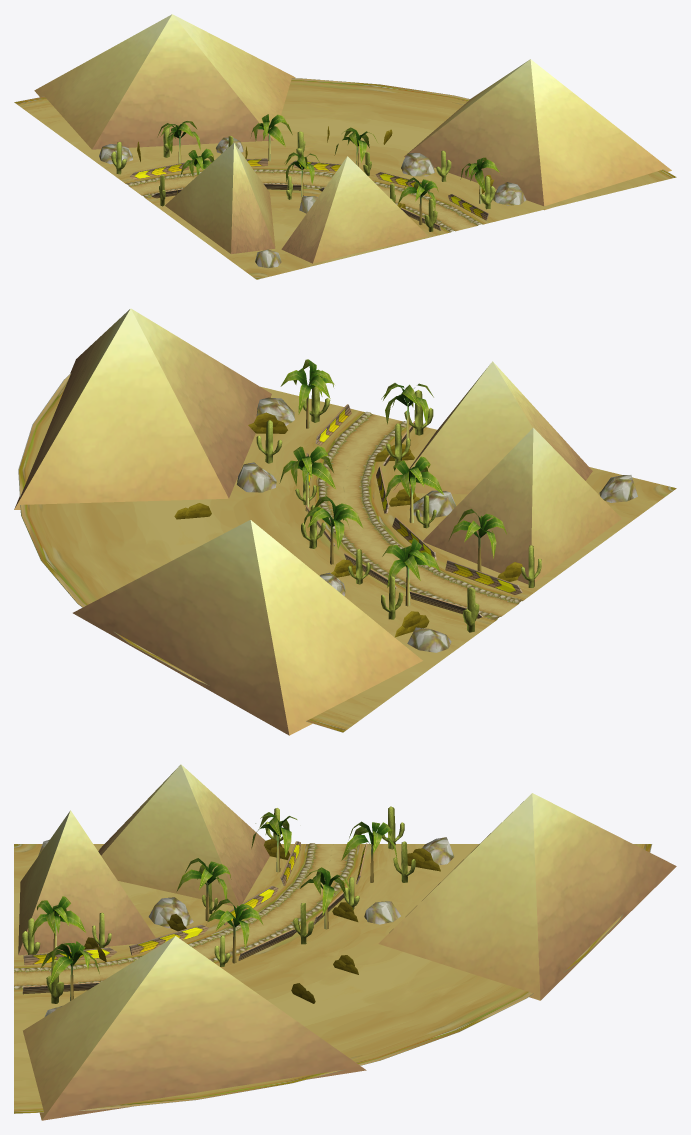
The model's file is DesertRoad02_LeftCurve.FBX.
The picture shows the model from 3 angles, top to bottom: view 1: azimuth 30°, elevation 25°; view 2: azimuth 150°, elevation 25°; view 3: azimuth 270°, elevation 25°; orthographic projection. The views are drawn at different scales.
Parts seen in each view (by area): view 1: Pyramid (×4), Road, PalmTree (×7), Stone (×3), Fence; view 2: Pyramid (×4), Road, PalmTree (×7), Stone (×5), Fence; view 3: Pyramid (×4), Road, PalmTree (×7), Stone (×3), Fence (×2).
Boxes of the visible parts, x1=… form: Pyramid (×4): x1=34, y1=14, x2=671, y2=263; Road: x1=14, y1=78, x2=676, y2=279; PalmTree (×7): x1=157, y1=114, x2=499, y2=224; Stone (×3): x1=99, y1=144, x2=526, y2=205; Fence: x1=130, y1=162, x2=188, y2=179; Pyramid (×4): x1=14, y1=308, x2=621, y2=735; Road: x1=18, y1=373, x2=676, y2=732; PalmTree (×7): x1=279, y1=359, x2=506, y2=606; Stone (×5): x1=237, y1=397, x2=637, y2=652; Fence: x1=445, y1=560, x2=522, y2=594; Pyramid (×4): x1=18, y1=764, x2=676, y2=1120; Road: x1=14, y1=843, x2=652, y2=1113; PalmTree (×7): x1=31, y1=812, x2=397, y2=1000; Stone (×3): x1=148, y1=837, x2=454, y2=928; Fence (×2): x1=23, y1=924, x2=208, y2=965.
Size of the model in its own units: 10137 by 2232 by 10387.
